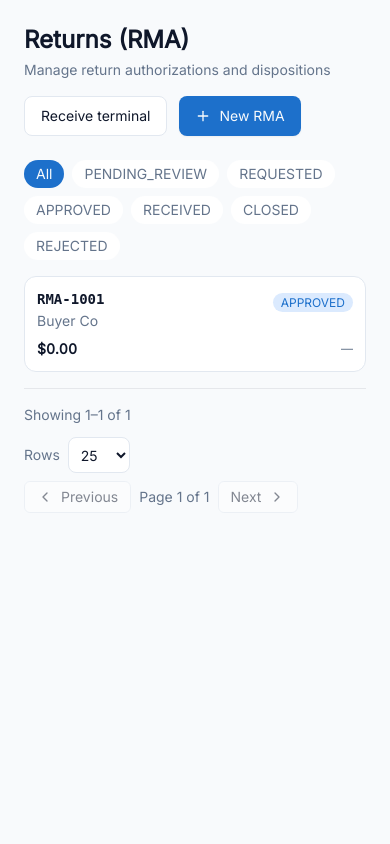
Test case: ReturnsPage RMA exceptions › toasts a generic message when the payload has no detail
The image size is (390, 844).
Click the button "RMA-1001 Buyer Co APPROVED $0.00 —" at point(71, 299), box [24,276,366,372]
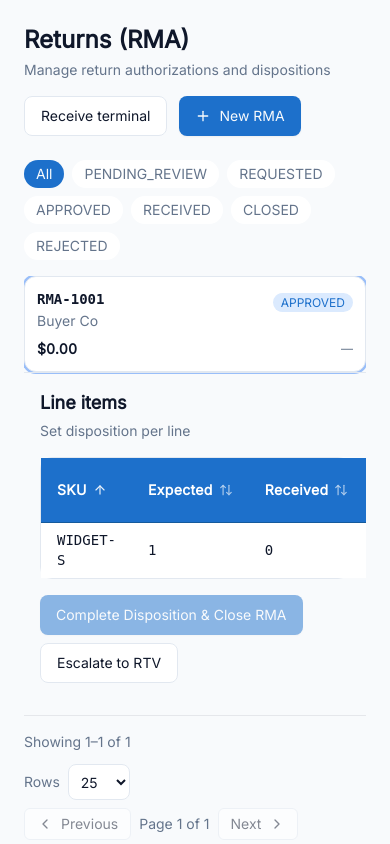
Click the button with test id "rma-escalate-rtv" at point(109, 663), box [40,643,178,683]
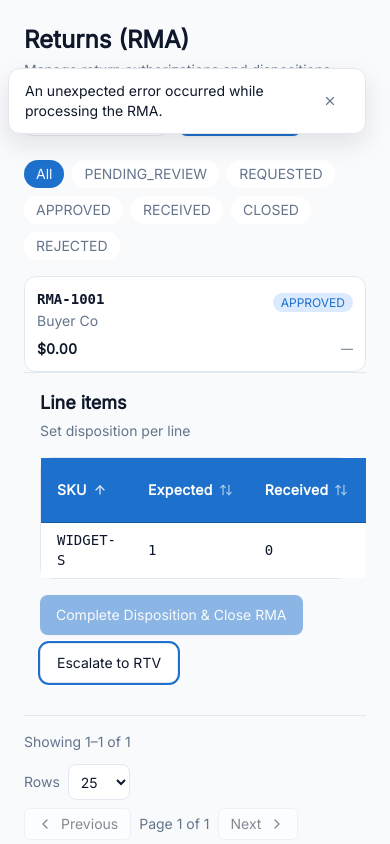
Now the message with test id "app-toast" reads "An unexpected error occurred while processing the RMA.", box [25,82,264,119]
